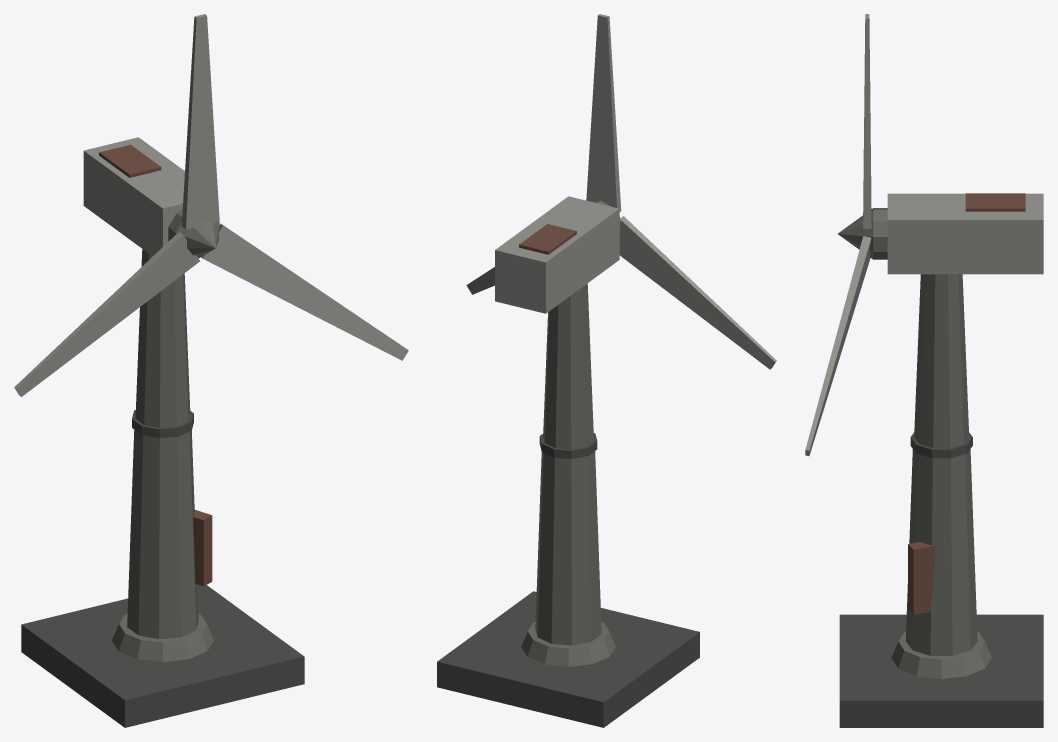
Rendered from ancient_wind_turbine.obj.
The picture shows the model from 3 angles, left to right: view 1: azimuth 30°, elevation 25°; view 2: azimuth 150°, elevation 25°; view 3: azimuth 270°, elevation 25°; orthographic projection. The views are drawn at different scales.
Visible parts, largest first — view 1: ancient_wind_turbine; view 2: ancient_wind_turbine; view 3: ancient_wind_turbine.
Boxes of the visible parts, bbox=[...] form: ancient_wind_turbine: bbox=[14, 14, 408, 727]; ancient_wind_turbine: bbox=[437, 14, 776, 727]; ancient_wind_turbine: bbox=[805, 14, 1043, 727].
Bounding box in the file's own units: 3.44 × 6.15 × 1.99.
